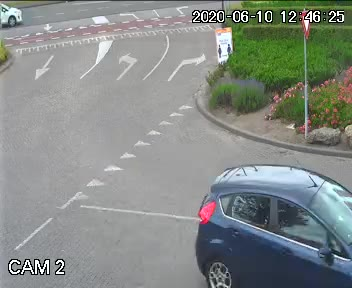car: (172, 153, 352, 288)
